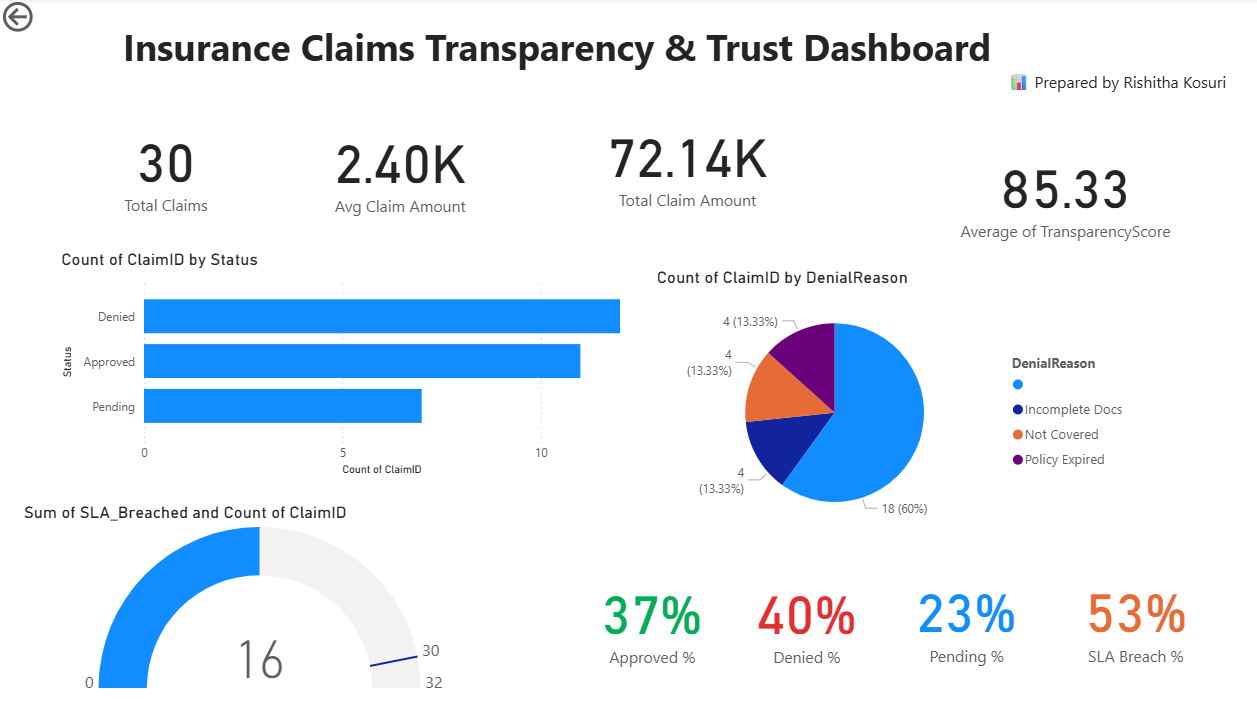

What the dashboard file says about the page in this screenshot:
{"tool":"powerbi","page":{"name":"Page 1","canvas":[1280,720],"ordinal":0},"visuals":[{"type":"pieChart","fields":{"Category":["claims_clean.DenialReason"],"Y":["CountNonNull(claims_clean.ClaimID)"]},"box":[660.2,272.6,489.1,274.1],"z":0},{"type":"clusteredBarChart","fields":{"Category":["claims_clean.Status"],"Y":["CountNonNull(claims_clean.ClaimID)"]},"box":[59.5,255.1,580.5,233.2],"z":1000},{"type":"card","fields":{"Values":["Avg(claims_clean.TransparencyScore)"]},"box":[947.9,112.1,258.9,171.1],"z":2000},{"type":"gauge","fields":{"Y":["Sum(claims_clean.SLA_Breached)"],"TargetValue":["CountNonNull(claims_clean.ClaimID)"]},"box":[21.2,510.3,493.6,196.8],"z":3000},{"type":"actionButton","box":[0,0,100,40],"z":4000},{"type":"card","fields":{"Values":["Count(claims_clean.ClaimID)"]},"box":[40.7,112.7,256.6,118.9],"z":5000},{"type":"card","fields":{"Values":["Avg(claims_clean.Amount)"]},"box":[268,115.1,275.6,113.6],"z":6000},{"type":"card","fields":{"Values":["Sum(claims_clean.Amount)"]},"box":[563.3,115.1,265,101.5],"z":7000},{"type":"textbox","box":[121.1,19.7,1123.5,109],"z":8000},{"type":"card","fields":{"Values":["claims_clean.Pending %"]},"box":[878.7,559.4,198.4,134.2],"z":11000},{"type":"card","fields":{"Values":["claims_clean.SLA Breach %"]},"box":[1073.4,551.8,149.3,149.3],"z":12000},{"type":"card","fields":{"Values":["claims_clean.Approved %"]},"box":[583.9,546.1,151.2,160.6],"z":12001},{"type":"card","fields":{"Values":["claims_clean.Denied %"]},"box":[740.8,546.1,151.2,160.6],"z":12002}]}

Visuals, with their boxes in screenshot pixels (x1, y1, x2, y2), scaled from the page's 1280x720 canvas onto the 1257x703 screenshot:
pieChart - claims_clean.DenialReason x CountNonNull(claims_clean.ClaimID): pyautogui.locateOnScreen(648, 266, 1129, 534)
clusteredBarChart - claims_clean.Status x CountNonNull(claims_clean.ClaimID): pyautogui.locateOnScreen(58, 249, 628, 477)
card - Avg(claims_clean.TransparencyScore): pyautogui.locateOnScreen(931, 109, 1185, 277)
gauge - Sum(claims_clean.SLA_Breached) x CountNonNull(claims_clean.ClaimID): pyautogui.locateOnScreen(21, 498, 506, 690)
actionButton: pyautogui.locateOnScreen(0, 0, 98, 39)
card - Count(claims_clean.ClaimID): pyautogui.locateOnScreen(40, 110, 292, 226)
card - Avg(claims_clean.Amount): pyautogui.locateOnScreen(263, 112, 534, 223)
card - Sum(claims_clean.Amount): pyautogui.locateOnScreen(553, 112, 813, 211)
textbox: pyautogui.locateOnScreen(119, 19, 1222, 126)
card - claims_clean.Pending %: pyautogui.locateOnScreen(863, 546, 1058, 677)
card - claims_clean.SLA Breach %: pyautogui.locateOnScreen(1054, 539, 1201, 685)
card - claims_clean.Approved %: pyautogui.locateOnScreen(573, 533, 722, 690)
card - claims_clean.Denied %: pyautogui.locateOnScreen(727, 533, 876, 690)
